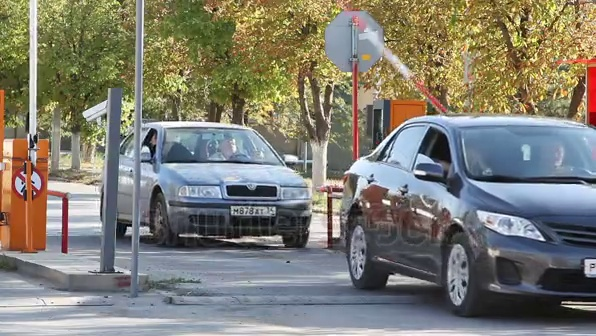licenseplate: (229, 206, 281, 218), (587, 258, 596, 269)
